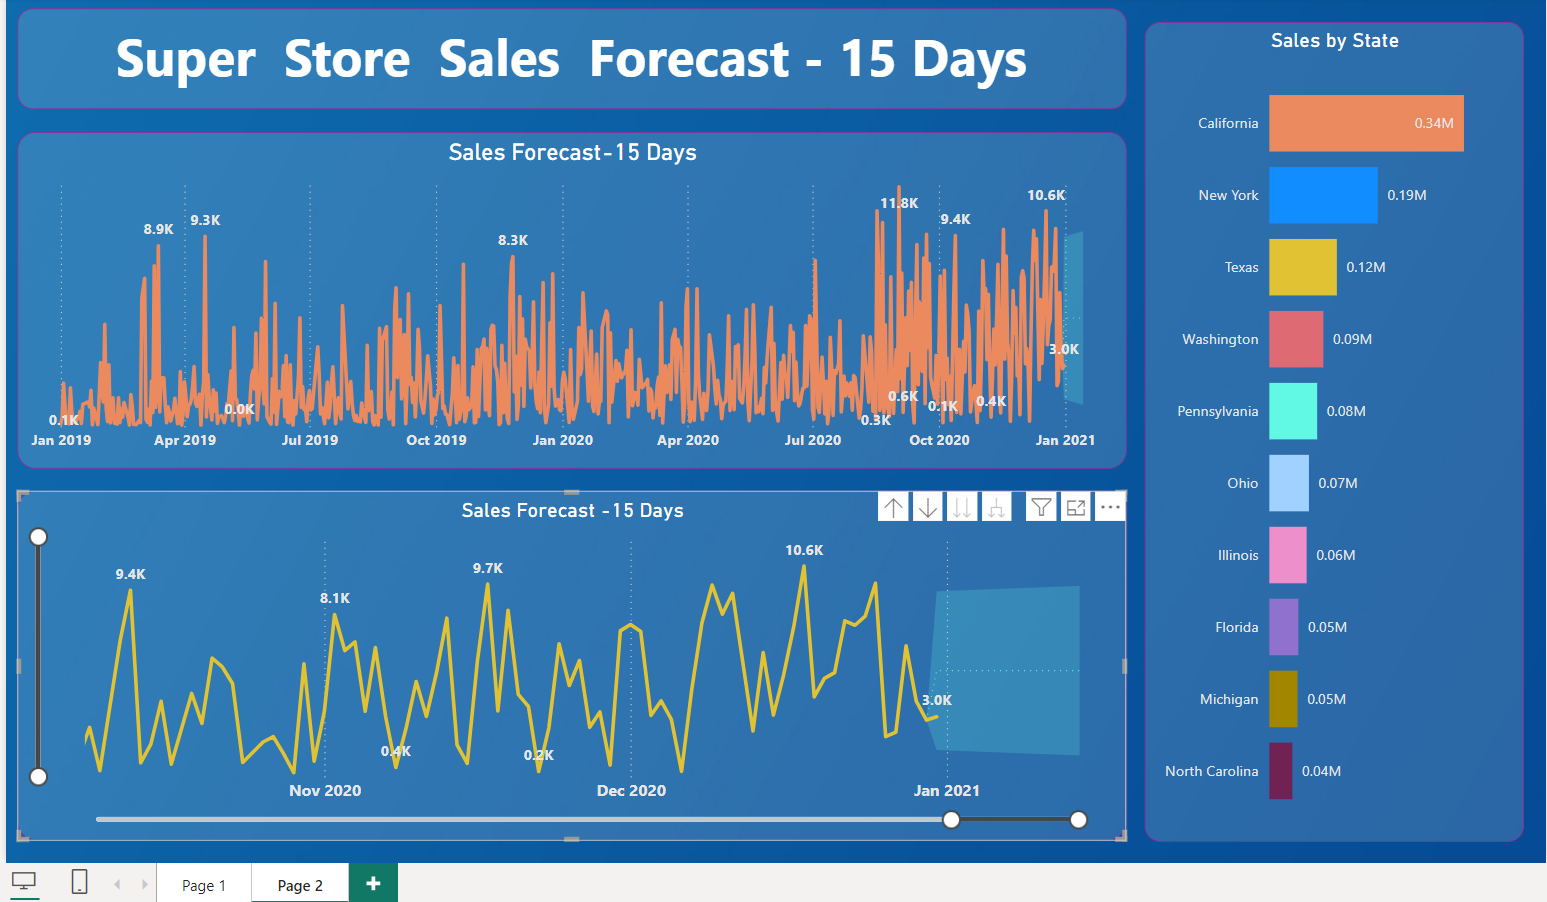

This screenshot's page, from the dashboard's own definition file:
{"tool":"powerbi","page":{"name":"Sales Forecasting","canvas":[1280,720],"ordinal":1},"visuals":[{"type":"lineChart","title":"Sales Forecast-15 Days","fields":{"Y":["Sum(SuperStore_Sales_Dataset.Sales)"],"Category":["SuperStore_Sales_Dataset.Order Date.Variation.Date Hierarchy.Year","SuperStore_Sales_Dataset.Order Date.Variation.Date Hierarchy.Quarter","SuperStore_Sales_Dataset.Order Date.Variation.Date Hierarchy.Month","SuperStore_Sales_Dataset.Order Date.Variation.Date Hierarchy.Day"]},"box":[9.5,112.2,922,279.8],"z":0},{"type":"lineChart","title":"Sales Forecast -15 Days","fields":{"Y":["Sum(SuperStore_Sales_Dataset.Sales)"],"Category":["SuperStore_Sales_Dataset.Order Date.Variation.Date Hierarchy.Year","SuperStore_Sales_Dataset.Order Date.Variation.Date Hierarchy.Quarter","SuperStore_Sales_Dataset.Order Date.Variation.Date Hierarchy.Month","SuperStore_Sales_Dataset.Order Date.Variation.Date Hierarchy.Day"]},"box":[9.5,411,922,290.7],"z":1000},{"type":"barChart","title":"Sales by State","fields":{"Y":["Sum(SuperStore_Sales_Dataset.Sales)"],"Category":["SuperStore_Sales_Dataset.State"]},"box":[946.3,20.3,315,681.4],"z":2000},{"type":"textbox","box":[9.5,9.5,922,83.8],"z":3000}]}

Visuals, with their boxes on the page's 1280x720 design canvas (x1, y1, x2, y2). These are canvas units, not pixel positions in the 1547x902 screenshot, which may show the page scaled, cropped or inside an application window:
"Sales Forecast-15 Days" lineChart: 10,112,932,392
"Sales Forecast -15 Days" lineChart: 10,411,932,702
"Sales by State" barChart: 946,20,1261,702
textbox: 10,10,932,93
